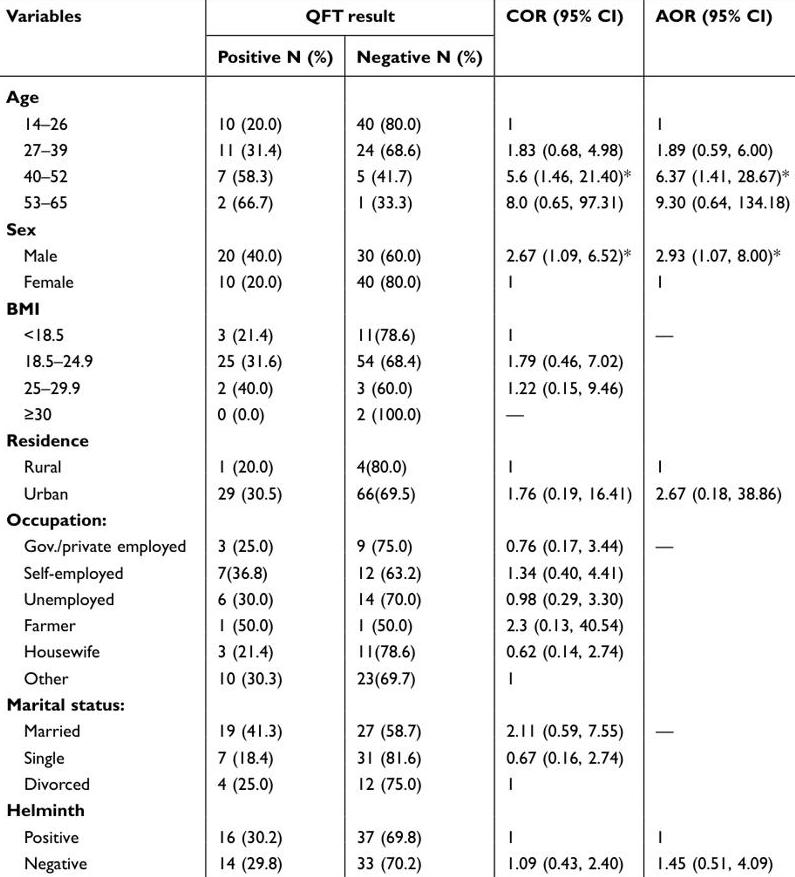table: (5, 4, 789, 872)
table column: (5, 4, 200, 872), (493, 4, 643, 872), (344, 4, 493, 872), (643, 4, 789, 872), (200, 4, 344, 872)
table column header: (5, 4, 789, 75)
table projected row header: (5, 75, 789, 109), (5, 215, 789, 241), (5, 294, 789, 320), (5, 426, 789, 452), (5, 505, 789, 531), (5, 690, 789, 716), (5, 796, 789, 822)
table row: (5, 35, 789, 75), (5, 75, 789, 109), (5, 4, 789, 35), (5, 135, 789, 162), (5, 188, 789, 215), (5, 267, 789, 294), (5, 320, 789, 347), (5, 399, 789, 426), (5, 452, 789, 479), (5, 531, 789, 558), (5, 584, 789, 611), (5, 637, 789, 664), (5, 716, 789, 743), (5, 769, 789, 796), (5, 109, 789, 135), (5, 162, 789, 188), (5, 215, 789, 241), (5, 241, 789, 267), (5, 294, 789, 320), (5, 347, 789, 373), (5, 373, 789, 399), (5, 426, 789, 452), (5, 479, 789, 505), (5, 505, 789, 531), (5, 558, 789, 584), (5, 611, 789, 637), (5, 664, 789, 690), (5, 690, 789, 716), (5, 743, 789, 769), (5, 796, 789, 822), (5, 822, 789, 848), (5, 848, 789, 872)
table spanning cell: (5, 4, 200, 75), (493, 4, 643, 75), (643, 4, 789, 75), (200, 4, 493, 35)
